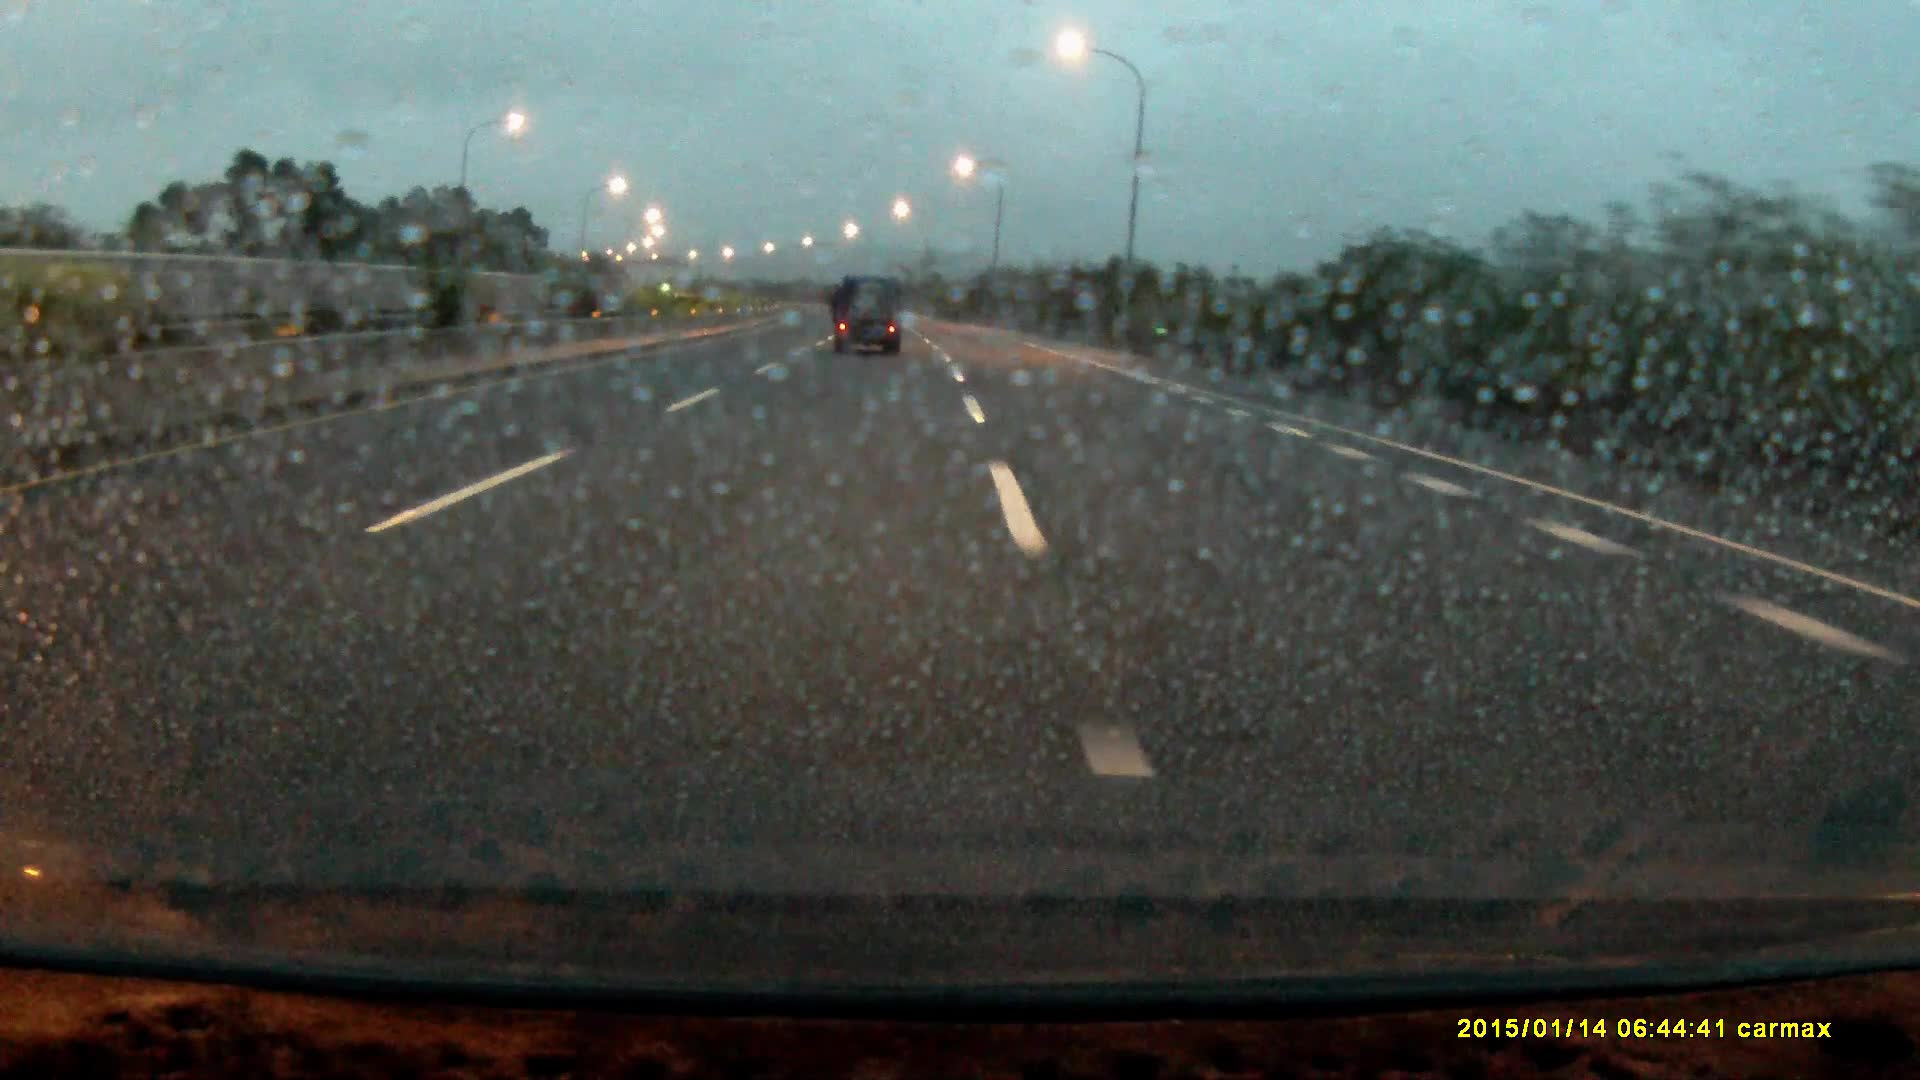vehicle: (832, 269, 905, 356)
